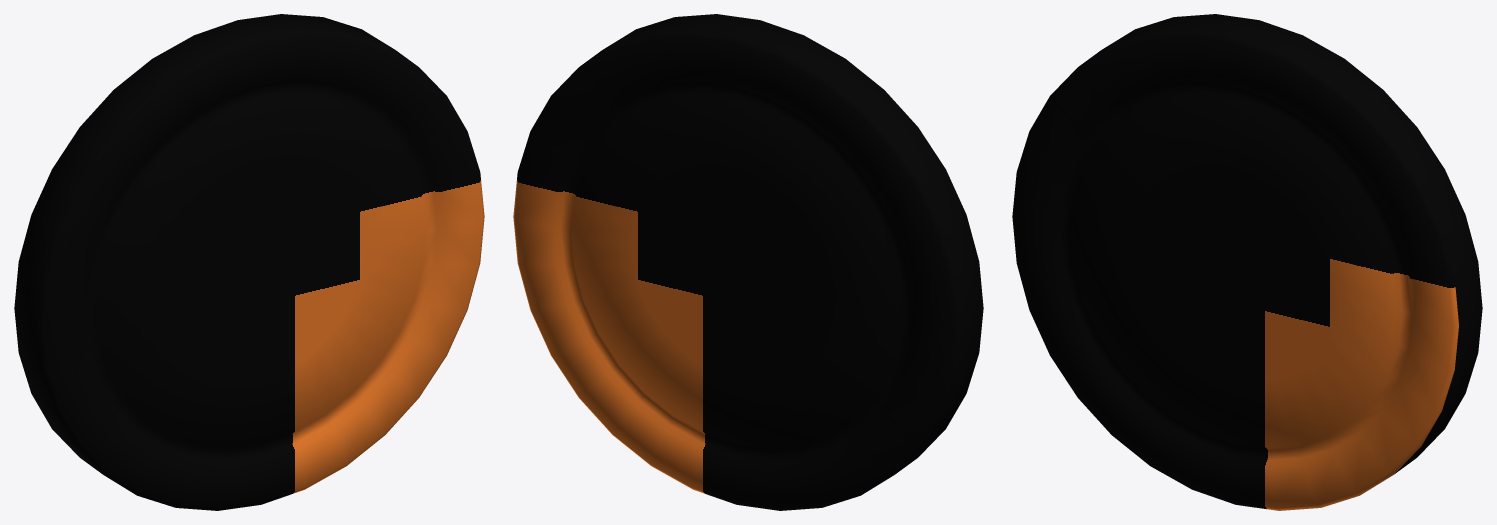
Rendered from SilverCoin.fbx.
3 renders of one model, left to right at view 1: azimuth 30°, elevation 25°; view 2: azimuth 150°, elevation 25°; view 3: azimuth 330°, elevation 25°, orthographic.
Visible parts, largest first — view 1: SilverCoin; view 2: SilverCoin; view 3: SilverCoin.
Part boxes in pixels (x1,y1,x2,y2): SilverCoin: (14, 14, 484, 510); SilverCoin: (513, 14, 983, 510); SilverCoin: (1012, 14, 1482, 510).
Bounding box in the file's own units: 0.5 × 0.5 × 0.0544.
